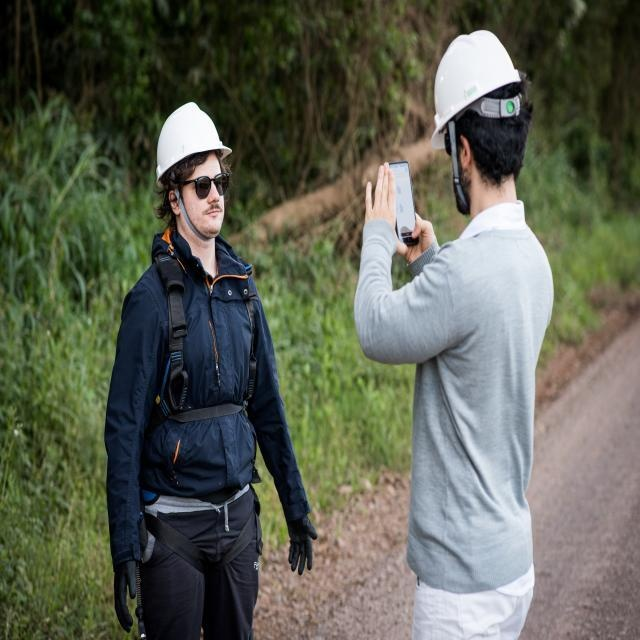Arnes_seguridad: (132, 244, 268, 589)
